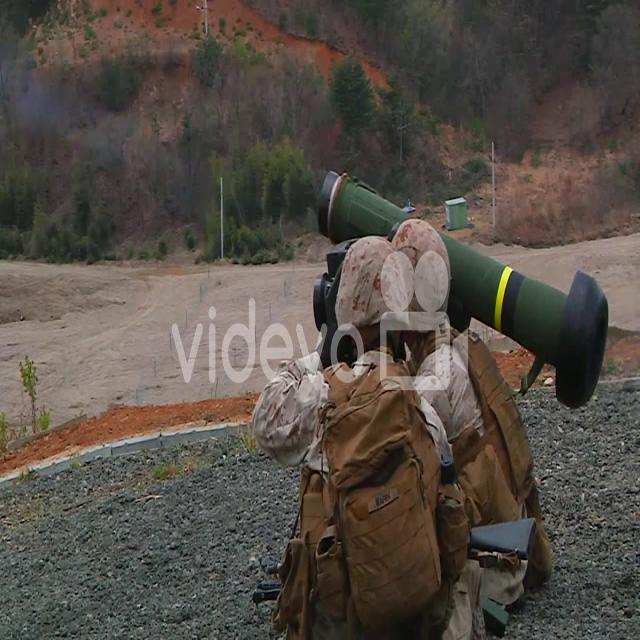bazooka: (319, 163, 619, 419)
